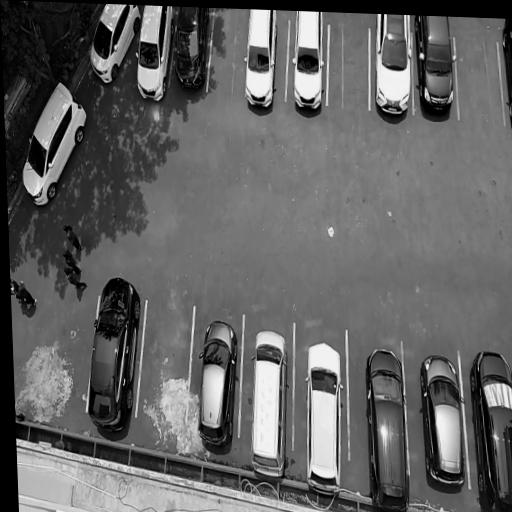Car: (80, 266, 144, 430), (18, 73, 90, 205), (361, 341, 414, 512), (467, 340, 512, 512), (301, 340, 348, 499), (418, 348, 469, 490), (247, 322, 291, 482), (195, 313, 241, 454), (373, 14, 417, 129), (415, 15, 456, 131), (83, 3, 138, 89), (131, 5, 175, 108), (291, 11, 330, 114), (240, 9, 279, 110), (170, 6, 209, 95), (500, 19, 512, 138)
Space Available: (146, 289, 187, 443), (458, 25, 498, 139), (329, 17, 369, 120), (213, 8, 244, 100)
